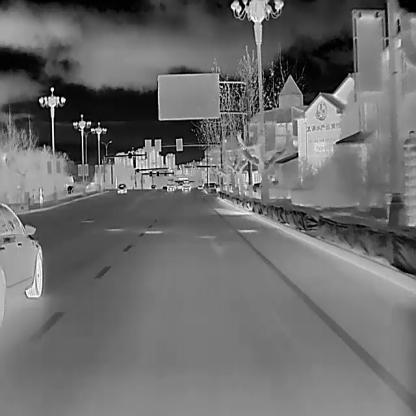car: (0, 202, 43, 324), (166, 178, 175, 192), (116, 183, 127, 194), (182, 179, 191, 191), (149, 184, 157, 190)
